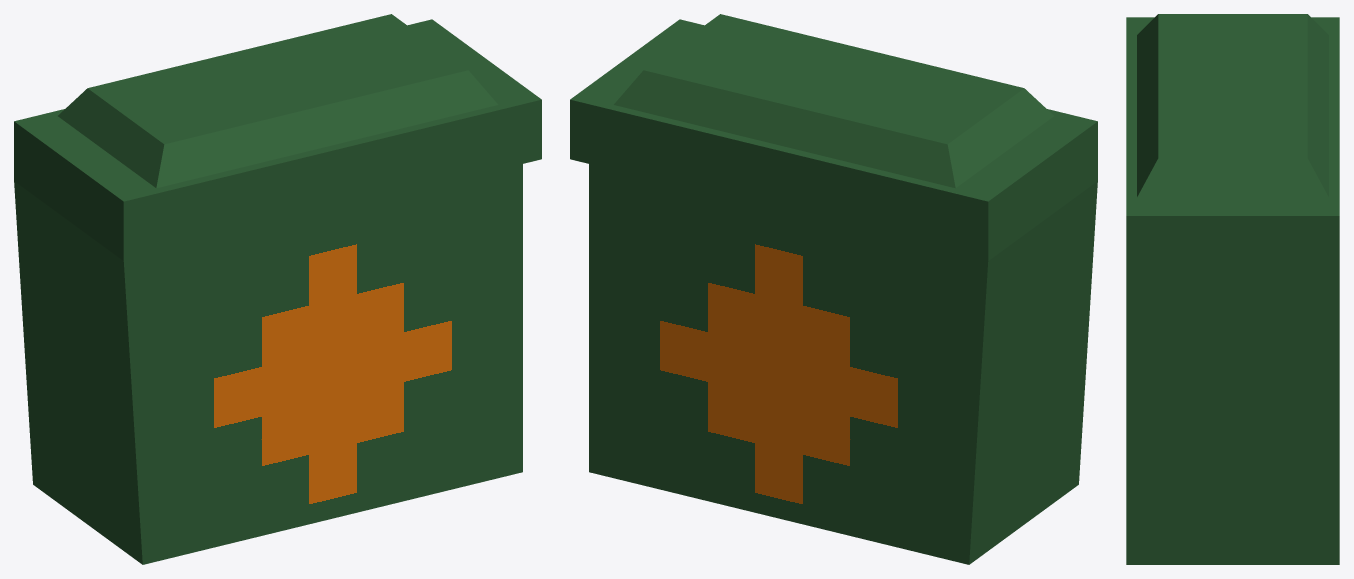
The model's file is chaingun_lowpoly.gltf.
3 renders of one model, left to right at view 1: azimuth 30°, elevation 25°; view 2: azimuth 150°, elevation 25°; view 3: azimuth 270°, elevation 25°, orthographic. The views are drawn at different scales.
Visible parts, largest first — view 1: ammocan; view 2: ammocan; view 3: ammocan.
Part boxes in pixels (x1,y1,x2,y2): ammocan: (14,14,541,564); ammocan: (570,14,1097,564); ammocan: (1126,14,1339,564).
Size of the model in its own units: 0.1375 by 0.1254 by 0.0625.
1 material, 1 textured.
